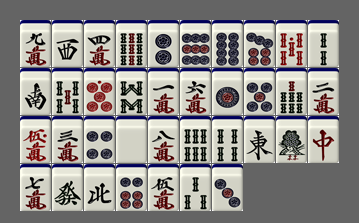0m: (20, 116, 51, 163)
0p: (84, 68, 115, 115)
0s: (276, 20, 307, 67)
1m: (148, 68, 179, 115)
1p: (212, 68, 243, 115)
1s: (276, 116, 307, 163)
1z: (244, 116, 275, 163)
2m: (308, 68, 339, 115)
2p: (148, 20, 179, 67)
2s: (308, 20, 339, 67)
2z: (20, 68, 51, 115)
3m: (52, 116, 83, 163)
3p: (212, 164, 243, 211)
3s: (180, 164, 211, 211)
3z: (52, 20, 83, 67)
4m: (84, 20, 115, 67)
4p: (84, 116, 115, 163)
4s: (212, 116, 243, 163)
4z: (84, 164, 115, 211)
5m: (148, 164, 179, 211)
5p: (244, 68, 275, 115)
5s: (52, 68, 83, 115)
5z: (116, 116, 147, 163)
6m: (180, 68, 211, 115)
6p: (116, 164, 147, 211)
6s: (180, 116, 211, 163)
6z: (52, 164, 83, 211)
7m: (20, 164, 51, 211)
7p: (244, 20, 275, 67)
7s: (276, 68, 307, 115)
7z: (308, 116, 339, 163)
8m: (148, 116, 179, 163)
8p: (212, 20, 243, 67)
8s: (116, 68, 147, 115)
9m: (20, 20, 51, 67)
9p: (180, 20, 211, 67)
9s: (116, 20, 147, 67)
